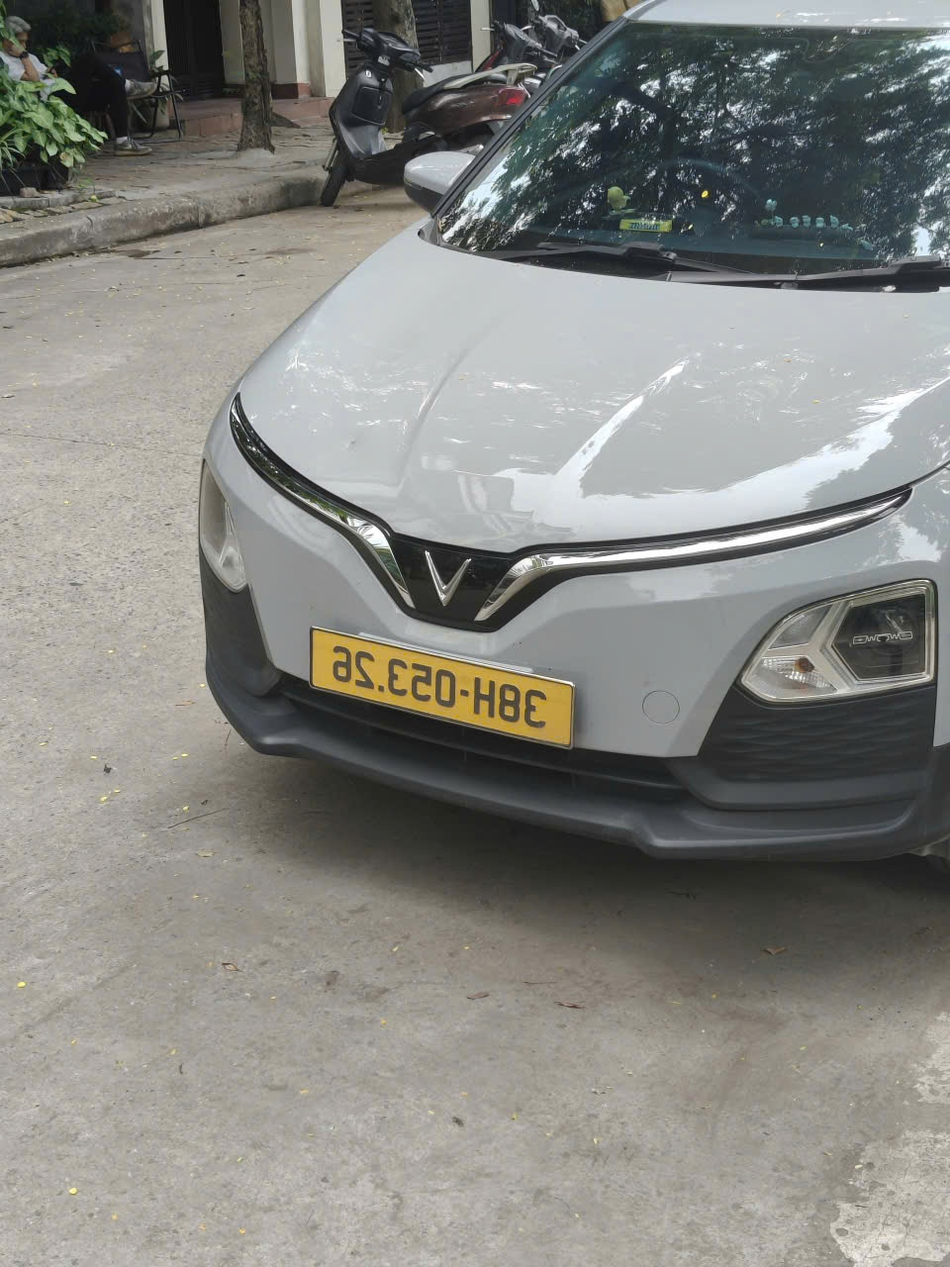plate: (529, 246, 694, 278)
